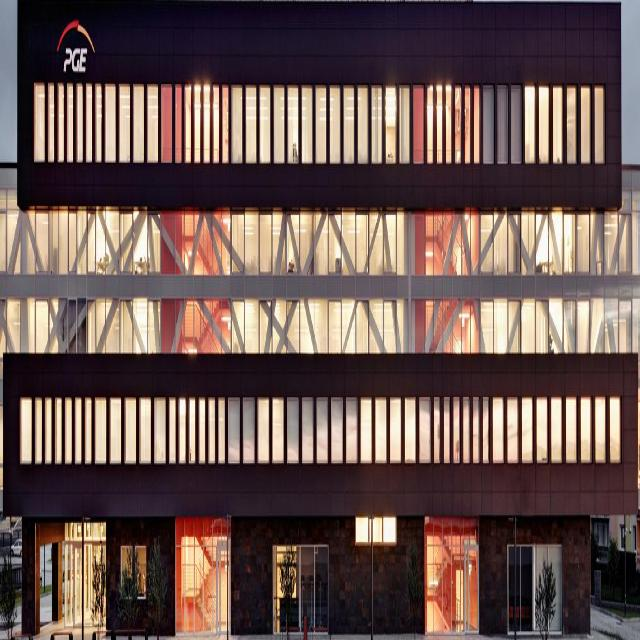door: (463, 542, 480, 638), (216, 544, 232, 639)
window: (0, 159, 640, 353), (425, 518, 480, 639), (177, 521, 232, 639), (274, 548, 328, 632), (66, 522, 107, 623), (508, 547, 536, 639), (121, 549, 148, 596), (355, 519, 397, 543), (592, 89, 604, 163), (35, 84, 46, 161), (389, 397, 402, 462), (316, 395, 328, 465), (106, 83, 117, 158), (119, 84, 130, 159), (161, 86, 172, 161), (232, 88, 243, 163), (330, 86, 341, 161), (483, 86, 494, 161), (593, 397, 606, 460), (301, 88, 312, 162), (386, 87, 397, 161), (400, 89, 411, 163), (413, 89, 424, 163), (566, 88, 577, 162), (553, 89, 564, 163), (538, 87, 549, 161), (579, 89, 590, 163), (147, 88, 158, 162), (301, 394, 313, 461), (404, 398, 416, 464), (610, 395, 622, 461), (579, 396, 591, 461), (566, 396, 578, 461), (275, 86, 285, 162), (247, 86, 257, 162), (346, 398, 358, 461), (133, 86, 143, 161), (275, 86, 285, 161), (288, 86, 298, 161), (260, 86, 270, 161), (316, 87, 326, 162), (344, 86, 354, 161), (359, 86, 369, 161), (372, 86, 382, 161), (525, 86, 535, 161), (512, 86, 522, 161), (497, 86, 507, 161), (287, 397, 298, 464), (419, 396, 430, 463), (552, 395, 563, 462), (331, 399, 342, 465), (522, 396, 533, 461), (273, 395, 283, 465), (243, 400, 254, 463), (361, 400, 372, 463), (228, 401, 239, 464), (139, 400, 150, 463), (110, 400, 121, 463), (21, 400, 32, 463), (376, 396, 386, 465), (155, 397, 166, 459), (126, 400, 137, 462), (507, 396, 517, 464), (258, 400, 269, 461), (537, 397, 547, 464), (493, 398, 503, 461), (95, 399, 105, 462), (198, 398, 206, 465), (217, 394, 224, 461), (179, 396, 186, 463), (169, 398, 176, 465), (95, 86, 101, 162), (86, 86, 92, 162), (185, 86, 191, 162), (222, 86, 228, 162), (427, 86, 433, 162), (464, 86, 470, 162), (58, 87, 64, 162), (175, 88, 181, 163), (194, 86, 200, 161), (436, 86, 442, 161), (474, 87, 480, 162), (444, 395, 450, 465), (473, 393, 479, 463), (434, 396, 440, 465), (483, 396, 489, 465), (463, 396, 469, 464), (189, 396, 195, 463), (45, 399, 51, 463), (56, 399, 62, 463), (65, 400, 71, 464), (75, 400, 81, 464), (85, 399, 91, 463), (48, 86, 53, 162), (213, 86, 218, 162), (204, 86, 209, 162), (446, 86, 451, 162), (455, 86, 460, 162), (68, 86, 73, 161), (35, 401, 41, 463), (454, 393, 459, 463), (209, 398, 214, 464)
